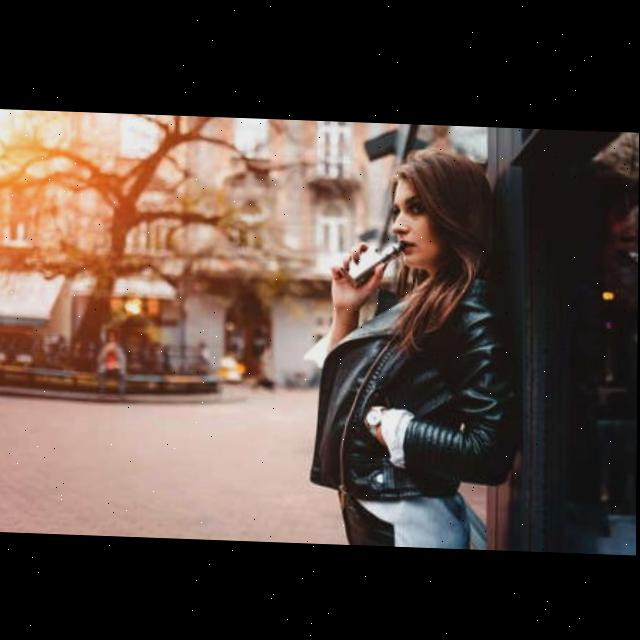vape: (346, 235, 407, 287)
